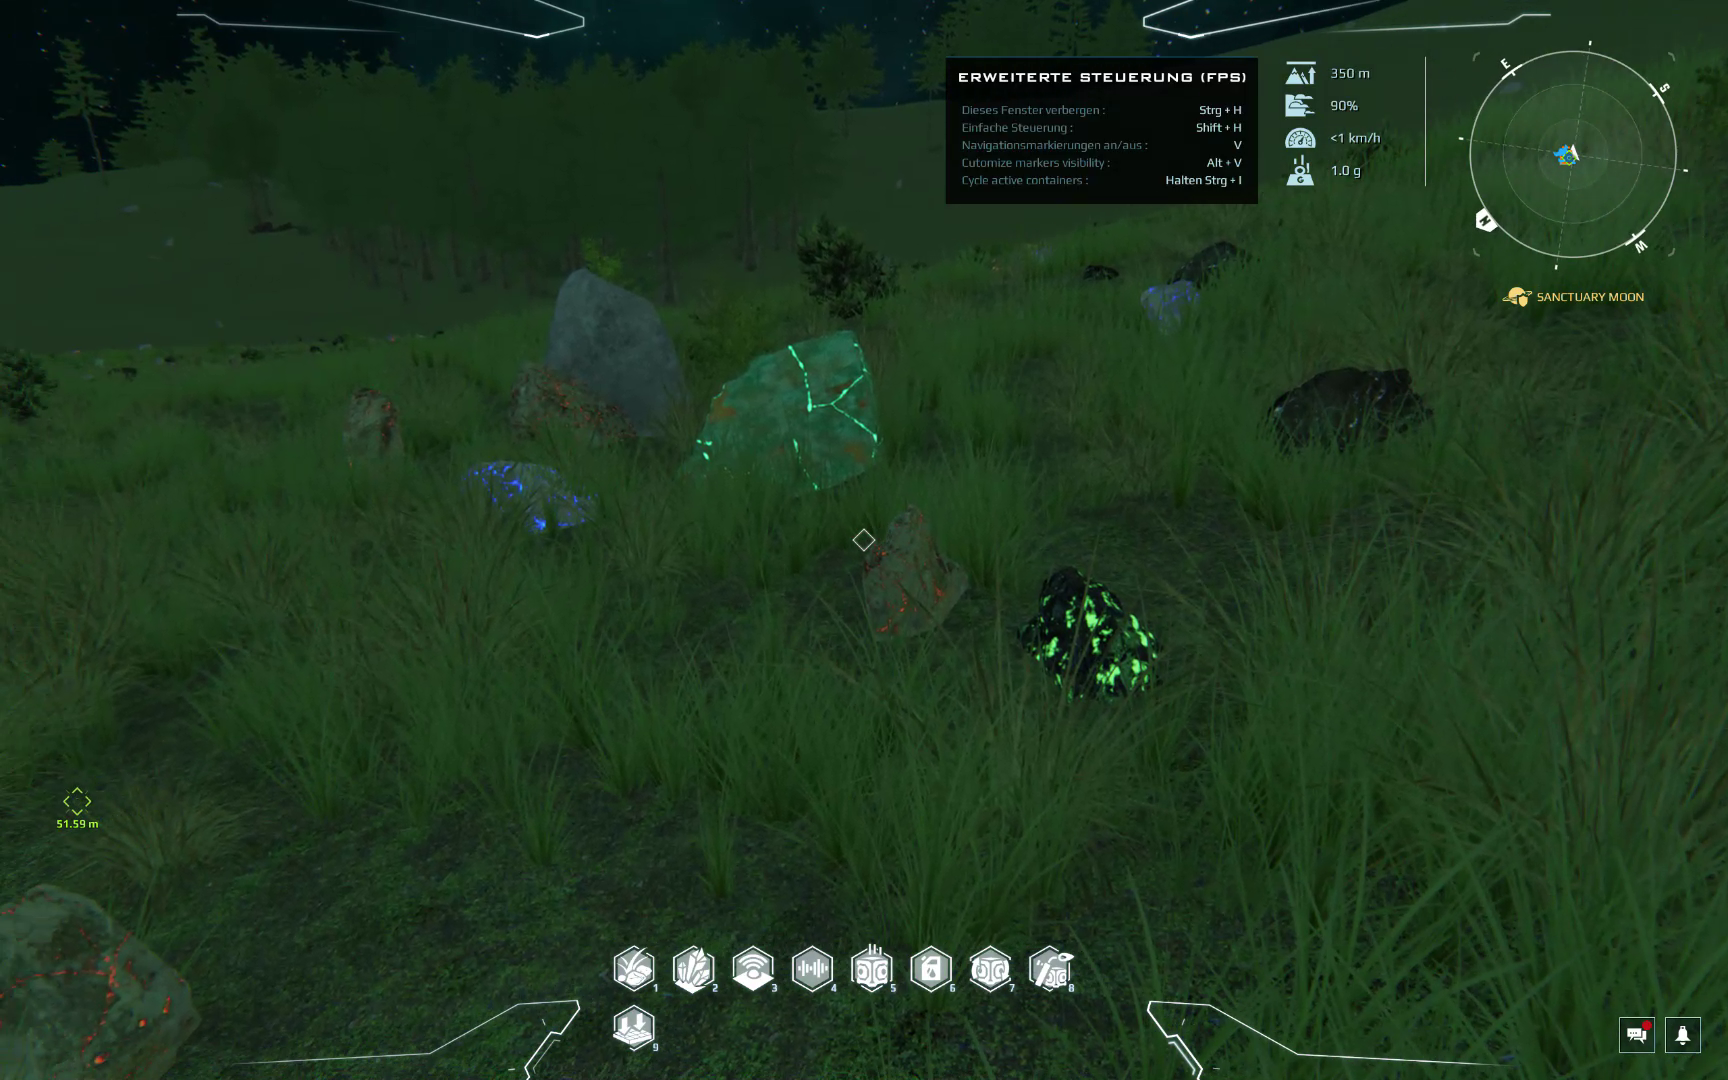Ore: (1, 881, 202, 1080), (676, 328, 890, 495), (1023, 564, 1163, 702), (850, 505, 974, 652), (1265, 367, 1434, 455), (503, 361, 644, 450), (471, 458, 605, 538), (341, 384, 411, 473), (1176, 240, 1261, 287), (1135, 281, 1210, 333), (1077, 258, 1123, 282)
